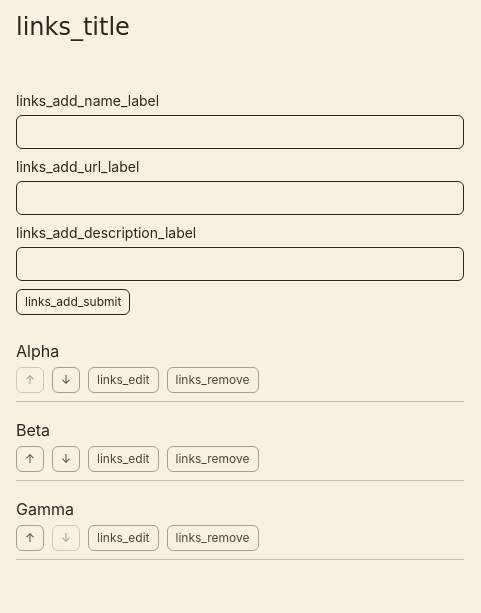
Test: #323 integration adjacent — a REAL createLink failure surfaces as role="alert" › a 500 on the create POST shows links-write-error (links_create_failed) and the typed draft survives for retry
Type "Uus link" into the field labelled "links_add_name_label" at coordinates (240, 132), box [16,115,464,149]
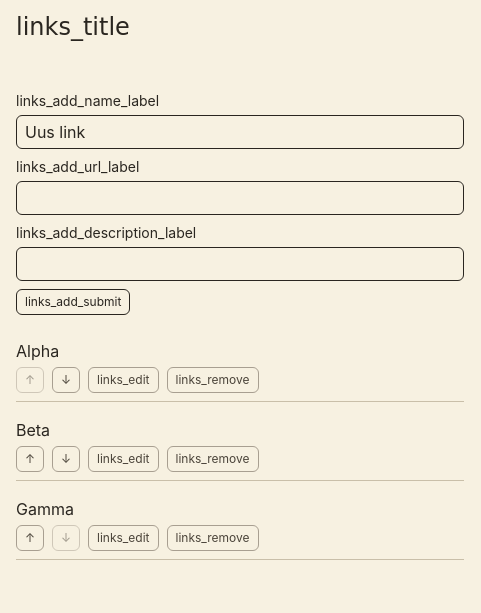
Type "crede.ee/salvestused" into the field labelled "links_add_url_label" at coordinates (240, 198), box [16,181,464,215]
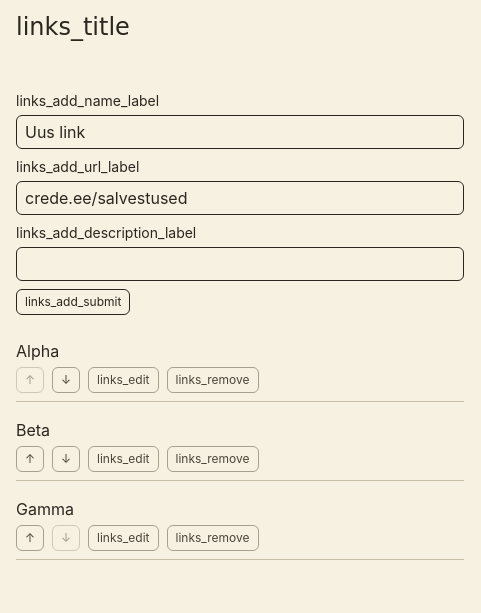
Click the button "links_add_submit" at coordinates (73, 302), box [16,289,130,315]
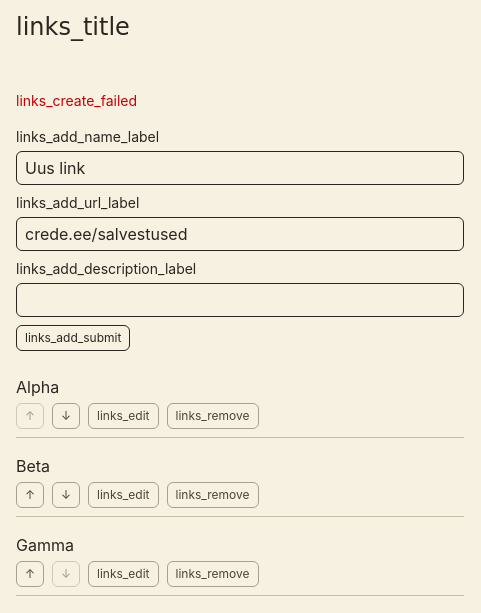
Expected: the message "links_create_failed" is shown, [16,92,137,109]
